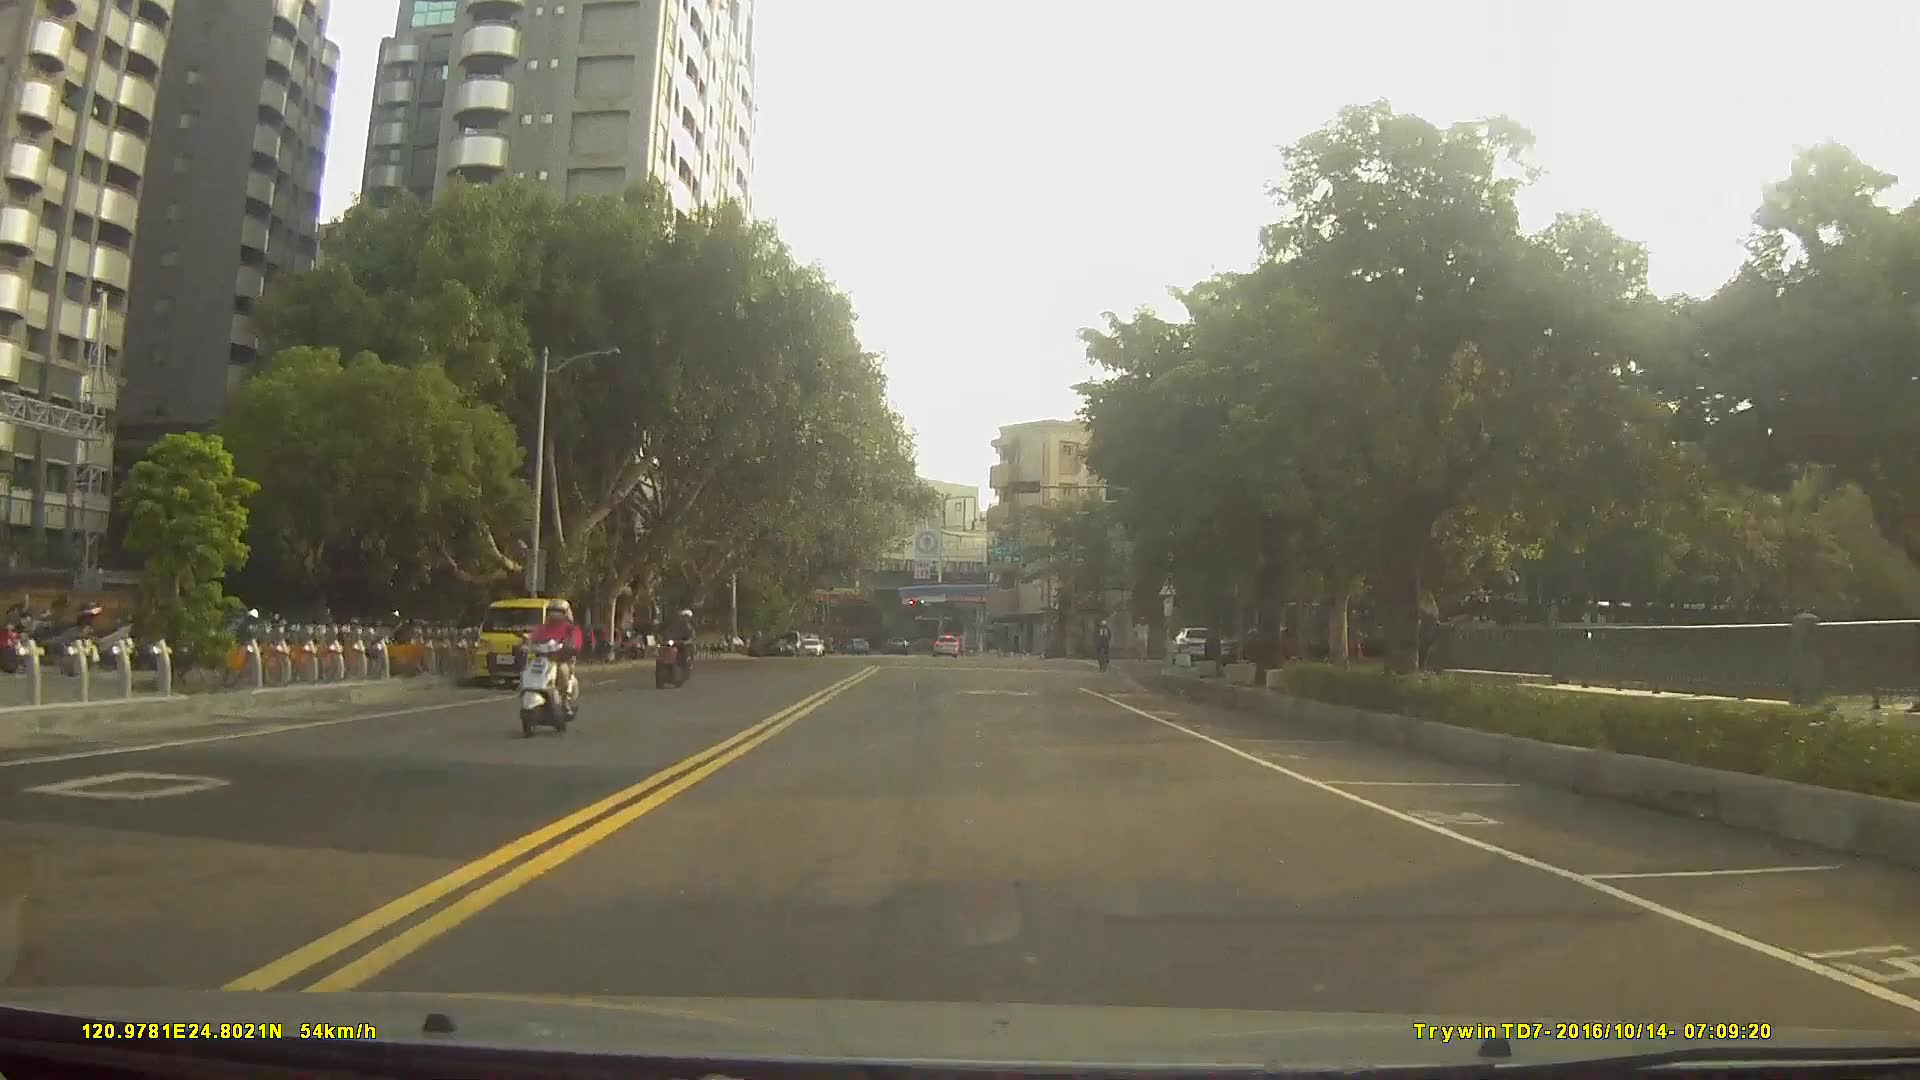pedestrian: (1131, 612, 1151, 662)
rider: (514, 594, 584, 735), (650, 606, 697, 687), (1094, 619, 1114, 673)
vehicle: (1168, 624, 1227, 665), (934, 633, 958, 654)
